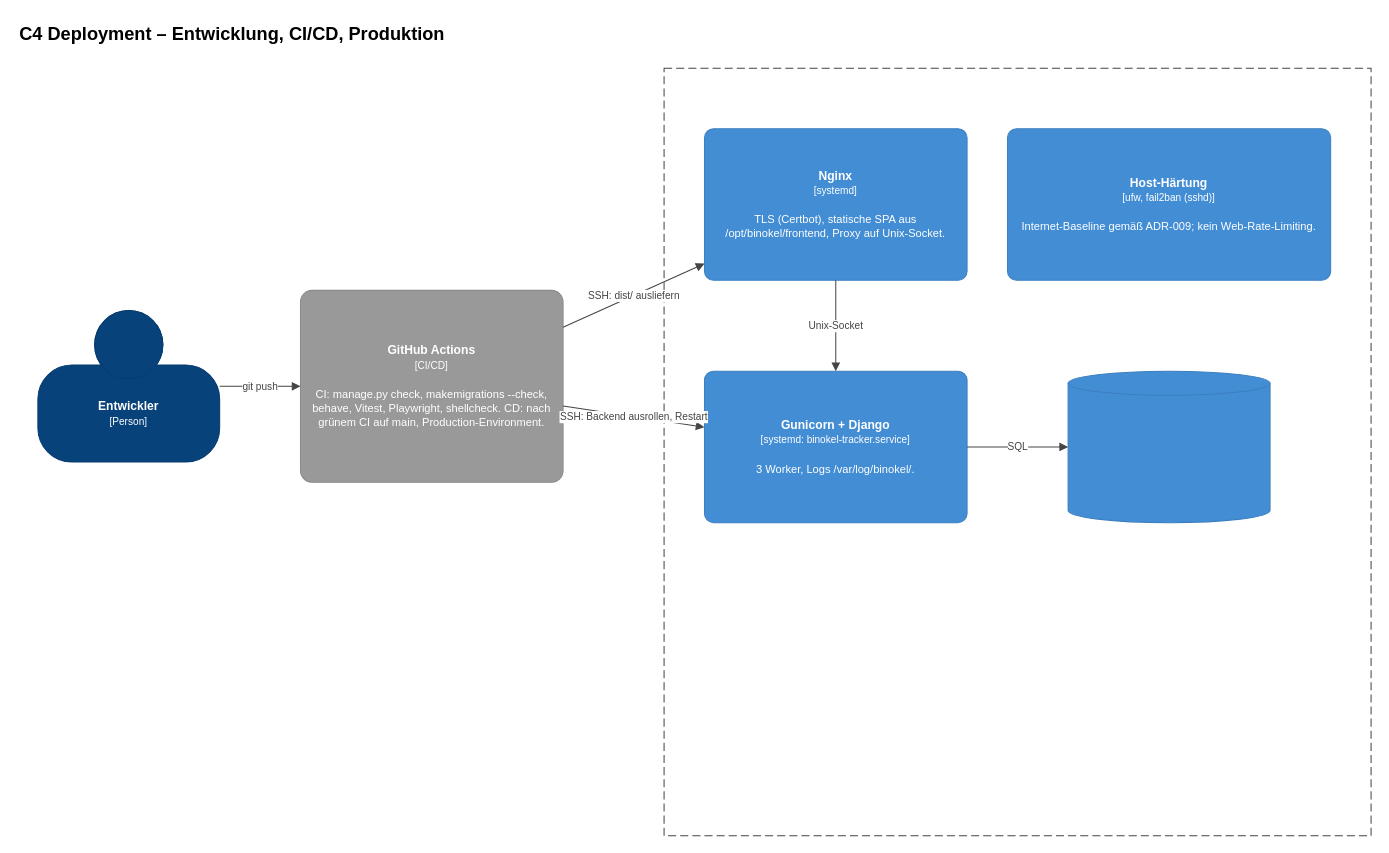
Some shapes in this 1389 by 853 pixel diagram are drawn without their labels. The shapes that lost their labels are listed below. From the top down, each one's box as (x1, y1, x2, y2) in pixels, then its label:
(663, 67, 1371, 836): IONOS-VM (Linux, ADR-008/009 gehärtet)
(1067, 370, 1270, 523): SQLite-Datei [DJANGO_DB_PATH] Außerhalb des Repo-Verzeichnisses.
